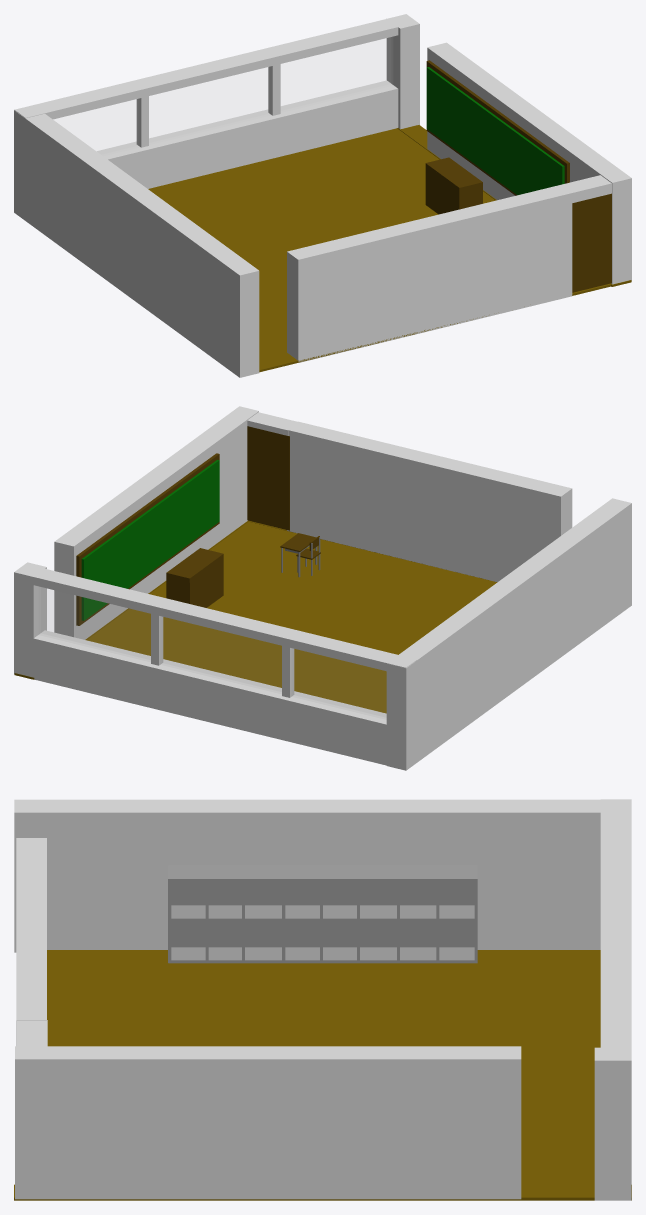
Rendered from classroom1-1.fbx.
The picture shows the model from 3 angles, top to bottom: view 1: azimuth 30°, elevation 25°; view 2: azimuth 150°, elevation 25°; view 3: azimuth 270°, elevation 25°; orthographic projection. The views are drawn at different scales.
Visible parts, largest first — view 1: left_wall3, classroom_wall2, classroom_floor1, right_wall2, right_wall_glass1, classroom_wall1, blackboard1, right_wall1, left_door1, classroom_wall3, blackboard2, board3 (+5 smaller); view 2: classroom_floor1, classroom_wall2, left_wall3, right_wall2, right_wall_glass1, classroom_wall1, blackboard1, right_wall1, left_door1, classroom_wall3, blackboard2, board3 (+5 smaller); view 3: classroom_wall1, classroom_floor1, classroom_wall2, locker_board2, right_wall1, left_wall3, classroom_wall3, locker_board4, locker_board1, locker_board13, classroom_floor2, left_wall1.
Part boxes in pixels (<box>): left_wall3: <box>287,185,572,362</box>; classroom_wall2: <box>14,110,259,377</box>; classroom_floor1: <box>148,128,495,359</box>; right_wall2: <box>97,80,398,188</box>; right_wall_glass1: <box>55,37,392,153</box>; classroom_wall1: <box>427,42,631,284</box>; blackboard1: <box>426,67,564,195</box>; right_wall1: <box>14,14,416,119</box>; left_door1: <box>572,193,611,292</box>; classroom_wall3: <box>386,14,419,129</box>; blackboard2: <box>426,60,569,195</box>; board3: <box>426,165,458,214</box>; classroom_floor1: <box>86,521,496,713</box>; classroom_wall2: <box>386,498,631,770</box>; left_wall3: <box>287,421,572,582</box>; right_wall2: <box>33,630,386,765</box>; right_wall_glass1: <box>39,587,385,716</box>; classroom_wall1: <box>54,406,258,639</box>; blackboard1: <box>81,459,219,620</box>; right_wall1: <box>15,564,416,671</box>; left_door1: <box>247,426,289,530</box>; classroom_wall3: <box>14,562,46,677</box>; blackboard2: <box>76,453,219,625</box>; board3: <box>190,556,222,607</box>; classroom_wall1: <box>15,1046,521,1199</box>; classroom_floor1: <box>47,950,600,1184</box>; classroom_wall2: <box>14,799,600,952</box>; locker_board2: <box>168,865,477,947</box>; right_wall1: <box>600,799,631,1060</box>; left_wall3: <box>16,838,46,1045</box>; classroom_wall3: <box>594,1047,631,1200</box>; locker_board4: <box>168,866,477,881</box>; locker_board1: <box>168,947,477,963</box>; locker_board13: <box>169,905,475,921</box>; classroom_floor2: <box>14,1184,631,1200</box>; left_wall1: <box>16,1020,47,1046</box>.
Size of the model in its own units: 100 by 25.36 by 100.
